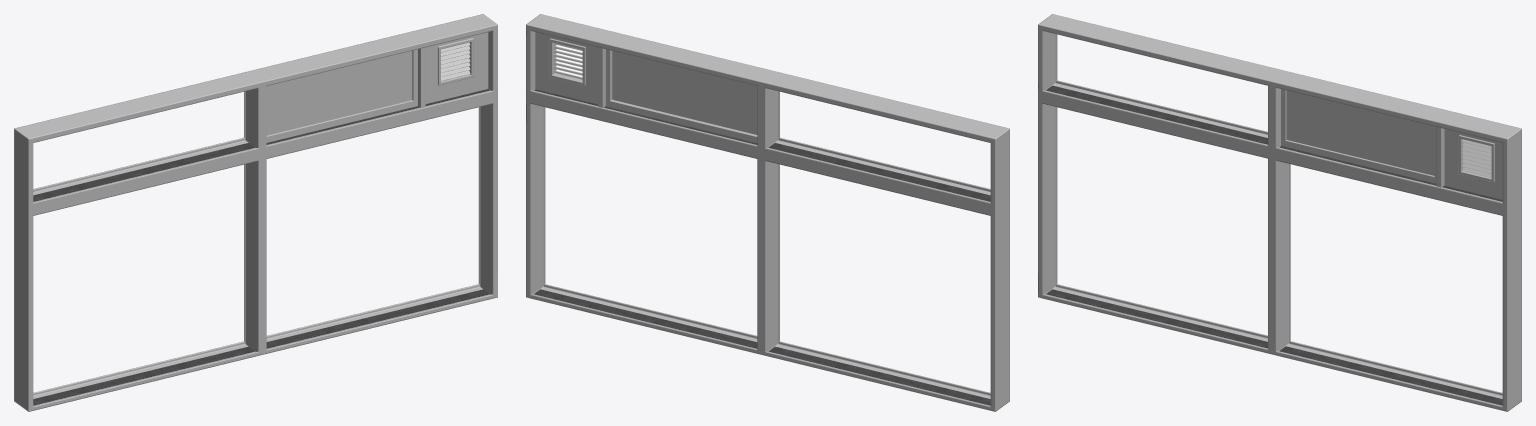
The model's file is Windows_02_Frame_Snaps014.fbx.
3 renders of one model, left to right at view 1: azimuth 30°, elevation 25°; view 2: azimuth 150°, elevation 25°; view 3: azimuth 330°, elevation 25°, orthographic.
Parts seen in each view (by area): view 1: Windows_02_Frame_LOD00, Windows_02_Frame_Glass_LOD00; view 2: Windows_02_Frame_LOD00, Windows_02_Frame_Glass_LOD00; view 3: Windows_02_Frame_LOD00, Windows_02_Frame_Glass_LOD00.
Boxes of the visible parts, x1,y1,x2,y2 form: Windows_02_Frame_LOD00: (14,14,497,411); Windows_02_Frame_Glass_LOD00: (266,51,412,135); Windows_02_Frame_LOD00: (526,14,1009,411); Windows_02_Frame_Glass_LOD00: (612,51,757,134); Windows_02_Frame_LOD00: (1038,14,1521,411); Windows_02_Frame_Glass_LOD00: (1286,90,1434,175).
Size of what is drawn, in the model's own units: 450 by 250 by 23.94.
3 materials, 1 textured.
